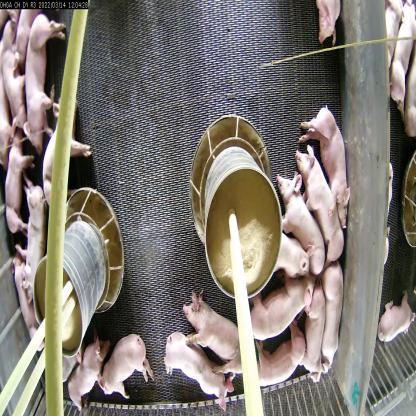Pig: (298, 102, 350, 226), (39, 96, 94, 213), (292, 140, 341, 262), (271, 173, 324, 271), (22, 13, 60, 147), (173, 287, 239, 362), (158, 323, 208, 401), (242, 276, 310, 324), (103, 327, 144, 404), (22, 168, 49, 282), (0, 138, 31, 234), (1, 26, 30, 123), (249, 336, 305, 386), (18, 251, 44, 332), (65, 342, 97, 407), (266, 226, 307, 275), (320, 258, 338, 363), (304, 286, 322, 377)
